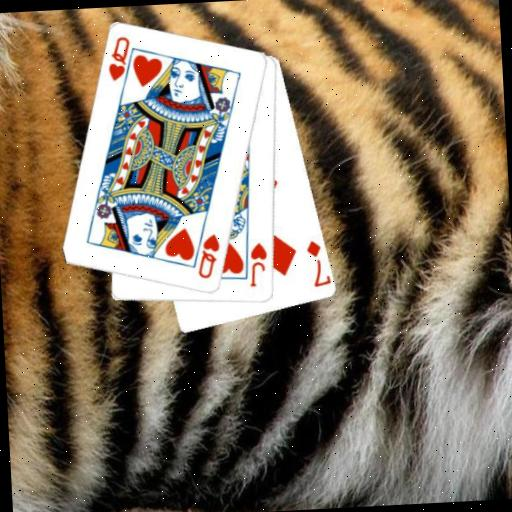7D: (304, 237, 332, 290)
JH: (246, 240, 271, 289)
QH: (104, 34, 139, 93), (194, 231, 224, 281)
